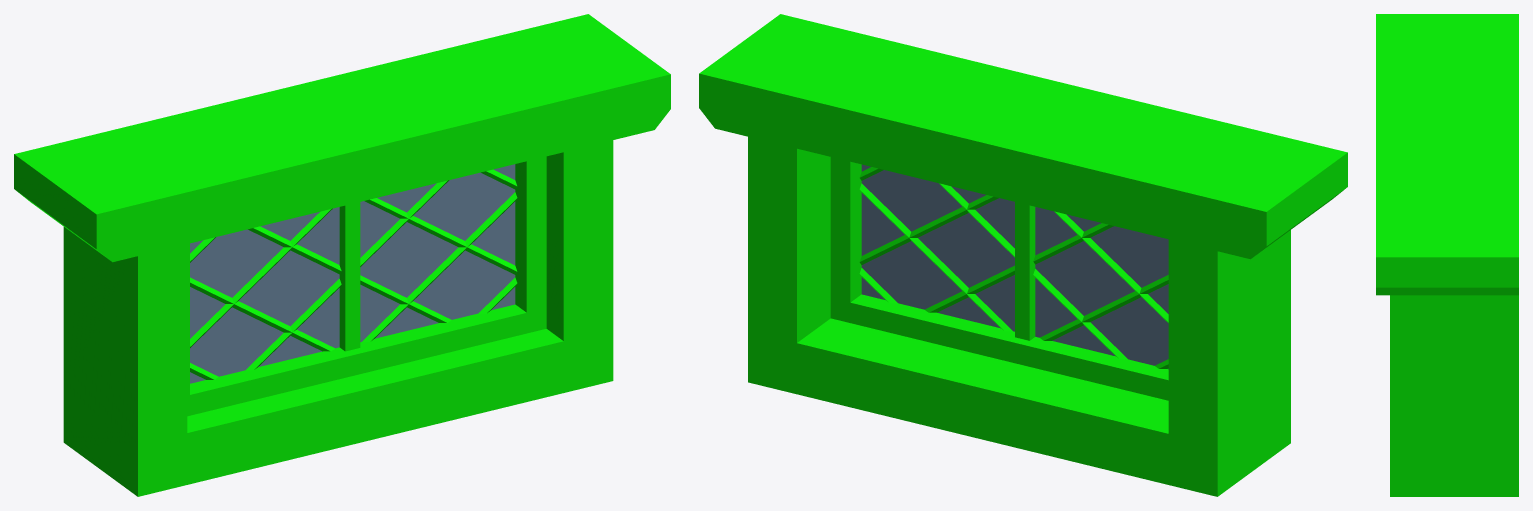
The model's file is SM_Window_Small_A_Fantasy.fbx.
The picture shows the model from 3 angles, left to right: view 1: azimuth 30°, elevation 25°; view 2: azimuth 150°, elevation 25°; view 3: azimuth 270°, elevation 25°; orthographic projection. The views are drawn at different scales.
Parts seen in each view (by area): view 1: window-small-a-frame-fantasy, window-small-a-window-fantasy; view 2: window-small-a-frame-fantasy, window-small-a-window-fantasy; view 3: window-small-a-frame-fantasy.
Boxes of the visible parts, x1,y1,x2,y2 form: window-small-a-frame-fantasy: [14, 14, 670, 496]; window-small-a-window-fantasy: [187, 156, 546, 416]; window-small-a-frame-fantasy: [699, 14, 1347, 496]; window-small-a-window-fantasy: [830, 157, 1168, 400]; window-small-a-frame-fantasy: [1376, 14, 1518, 496].
Bounding box in the file's own units: 1.16 × 0.58 × 0.2882.
